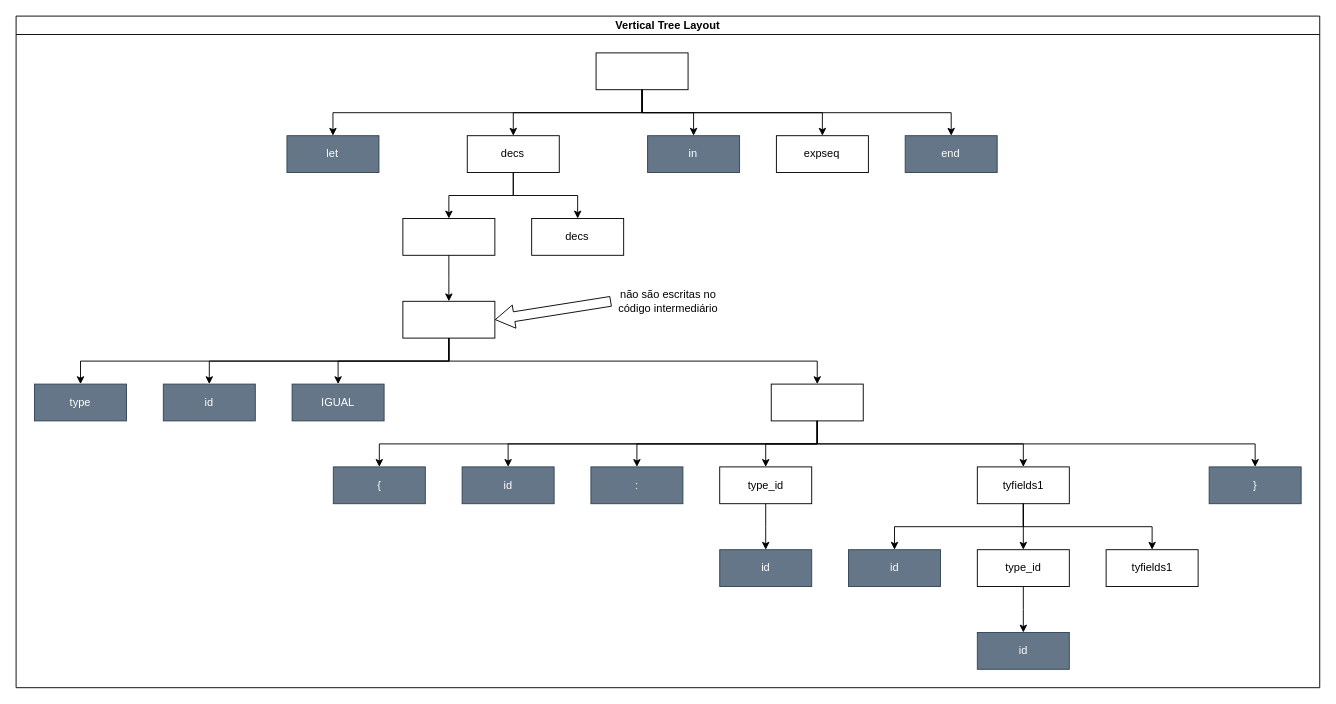
Some shapes in this 1336 by 704 pixel diagram are drawn without their labels. Each missing label, with the centre of its shape:
"dec" belongs at (448,236).
"exp" belongs at (641,71).
"ty" belongs at (816,402).
"tydec" belongs at (448,319).
